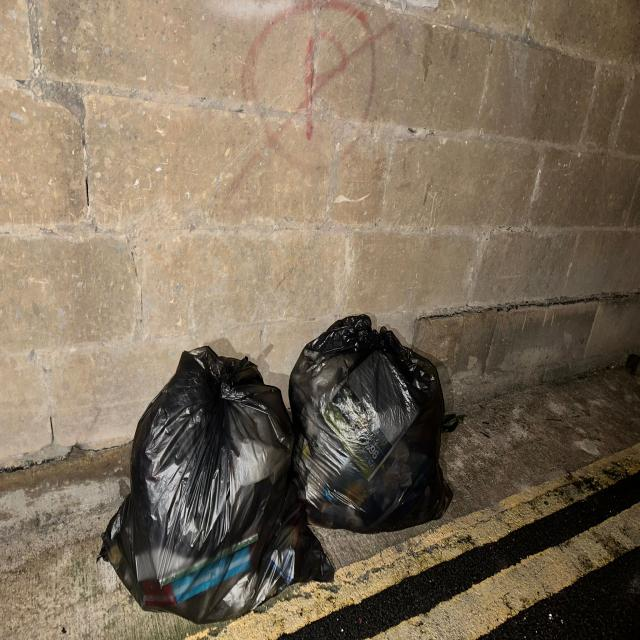black_bag: (104, 342, 335, 623), (284, 312, 460, 528)
